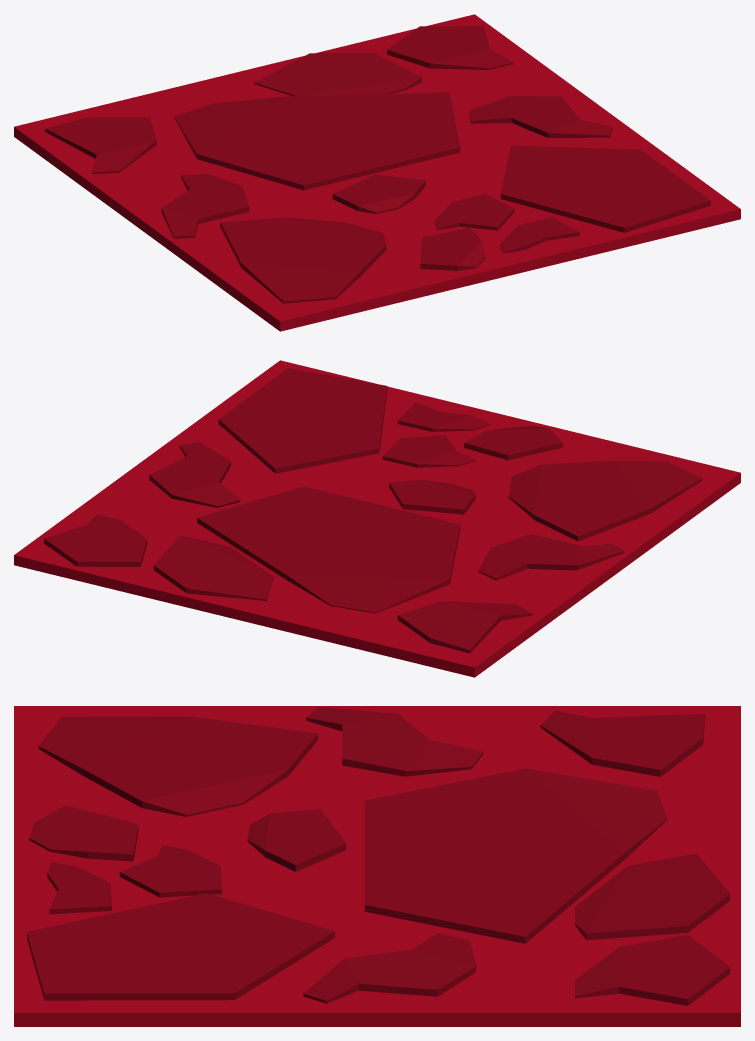
The model's file is LavaGround.fbx.
3 renders of one model, top to bottom at view 1: azimuth 30°, elevation 25°; view 2: azimuth 150°, elevation 25°; view 3: azimuth 270°, elevation 25°, orthographic. The views are drawn at different scales.
Parts seen in each view (by area): view 1: LavaGround; view 2: LavaGround; view 3: LavaGround.
Boxes of the visible parts, x1,y1,x2,y2 form: LavaGround: (14, 14, 740, 331); LavaGround: (14, 360, 740, 677); LavaGround: (14, 706, 740, 1026).
Bounding box in the file's own units: 505 × 16.22 × 505.
1 material, 1 textured.
